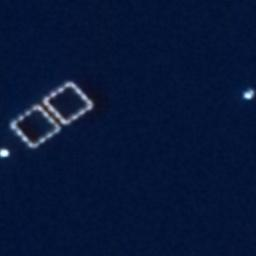square_solid: (8, 100, 69, 153), (41, 77, 99, 130)
